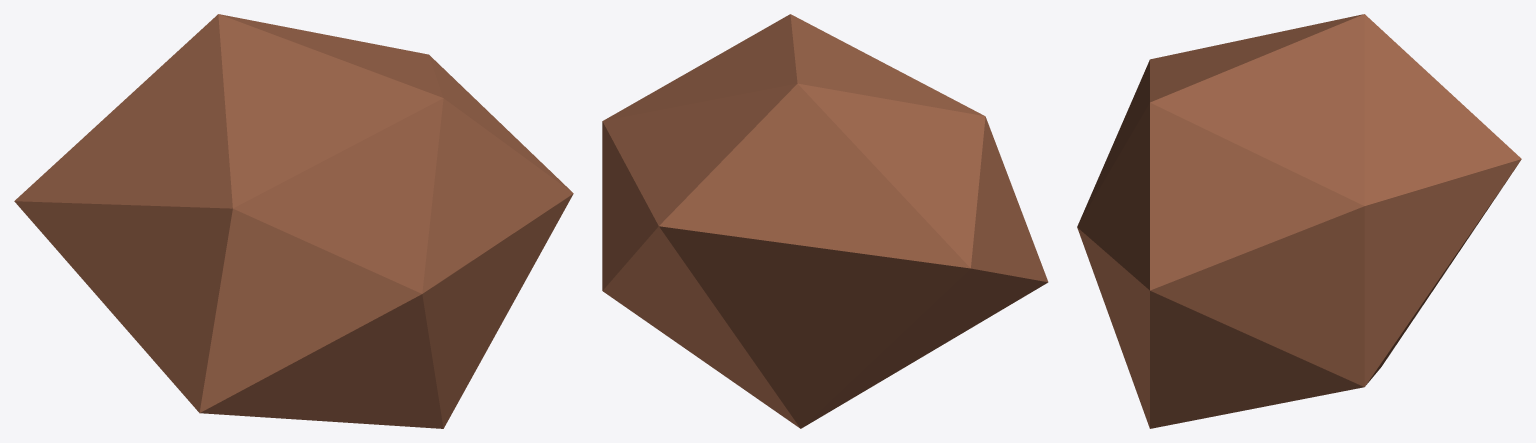
File: SmallRock_01.fbx
3 views of the same model, side by side, from view 1: azimuth 30°, elevation 25°; view 2: azimuth 150°, elevation 25°; view 3: azimuth 270°, elevation 25° (orthographic). The views are drawn at different scales.
Parts seen in each view (by area): view 1: SmallRock_01; view 2: SmallRock_01; view 3: SmallRock_01.
Part boxes in pixels (x1,y1,x2,y2): SmallRock_01: (14,14,573,428); SmallRock_01: (602,14,1048,428); SmallRock_01: (1077,14,1521,428).
Size of the model in its own units: 1.31 by 1.03 by 1.15.
